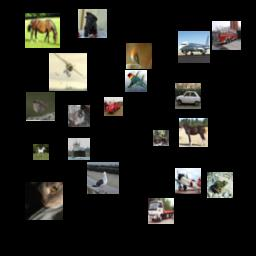airplane: (49, 53, 87, 91), (178, 31, 210, 63), (175, 168, 201, 194), (125, 70, 147, 92)
automobile: (175, 83, 201, 109)
bird: (87, 162, 119, 194), (26, 92, 55, 121), (126, 43, 152, 69)
cat: (25, 182, 63, 220)
deer: (153, 130, 169, 146)
dog: (78, 9, 107, 38), (68, 105, 90, 127)
frog: (207, 172, 233, 198)
ship: (68, 138, 90, 160)
truck: (212, 21, 241, 50), (148, 198, 174, 224), (104, 97, 123, 116)
